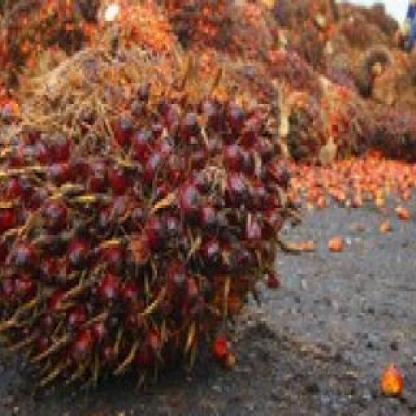Ripe: (0, 74, 290, 386), (158, 0, 242, 46)
